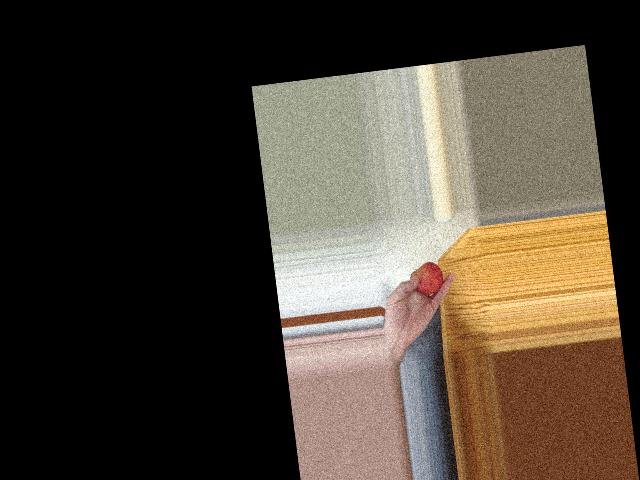apple: (407, 257, 446, 301)
